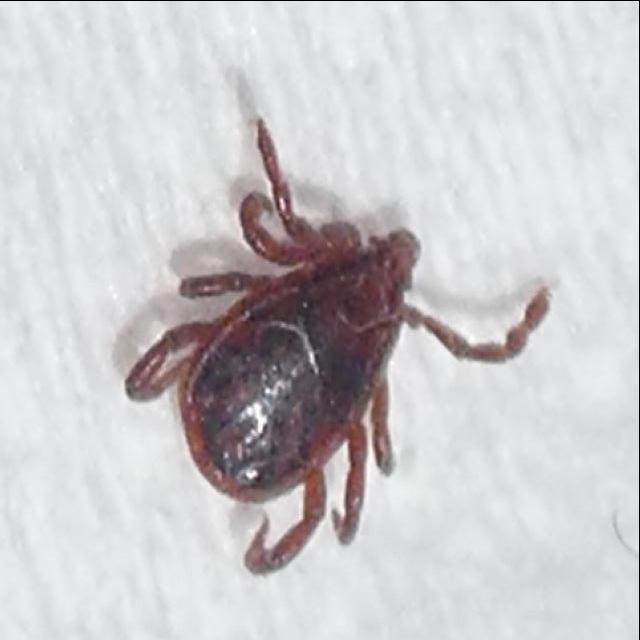Rhipicephalus Sanguineus-M: (123, 119, 551, 577)
